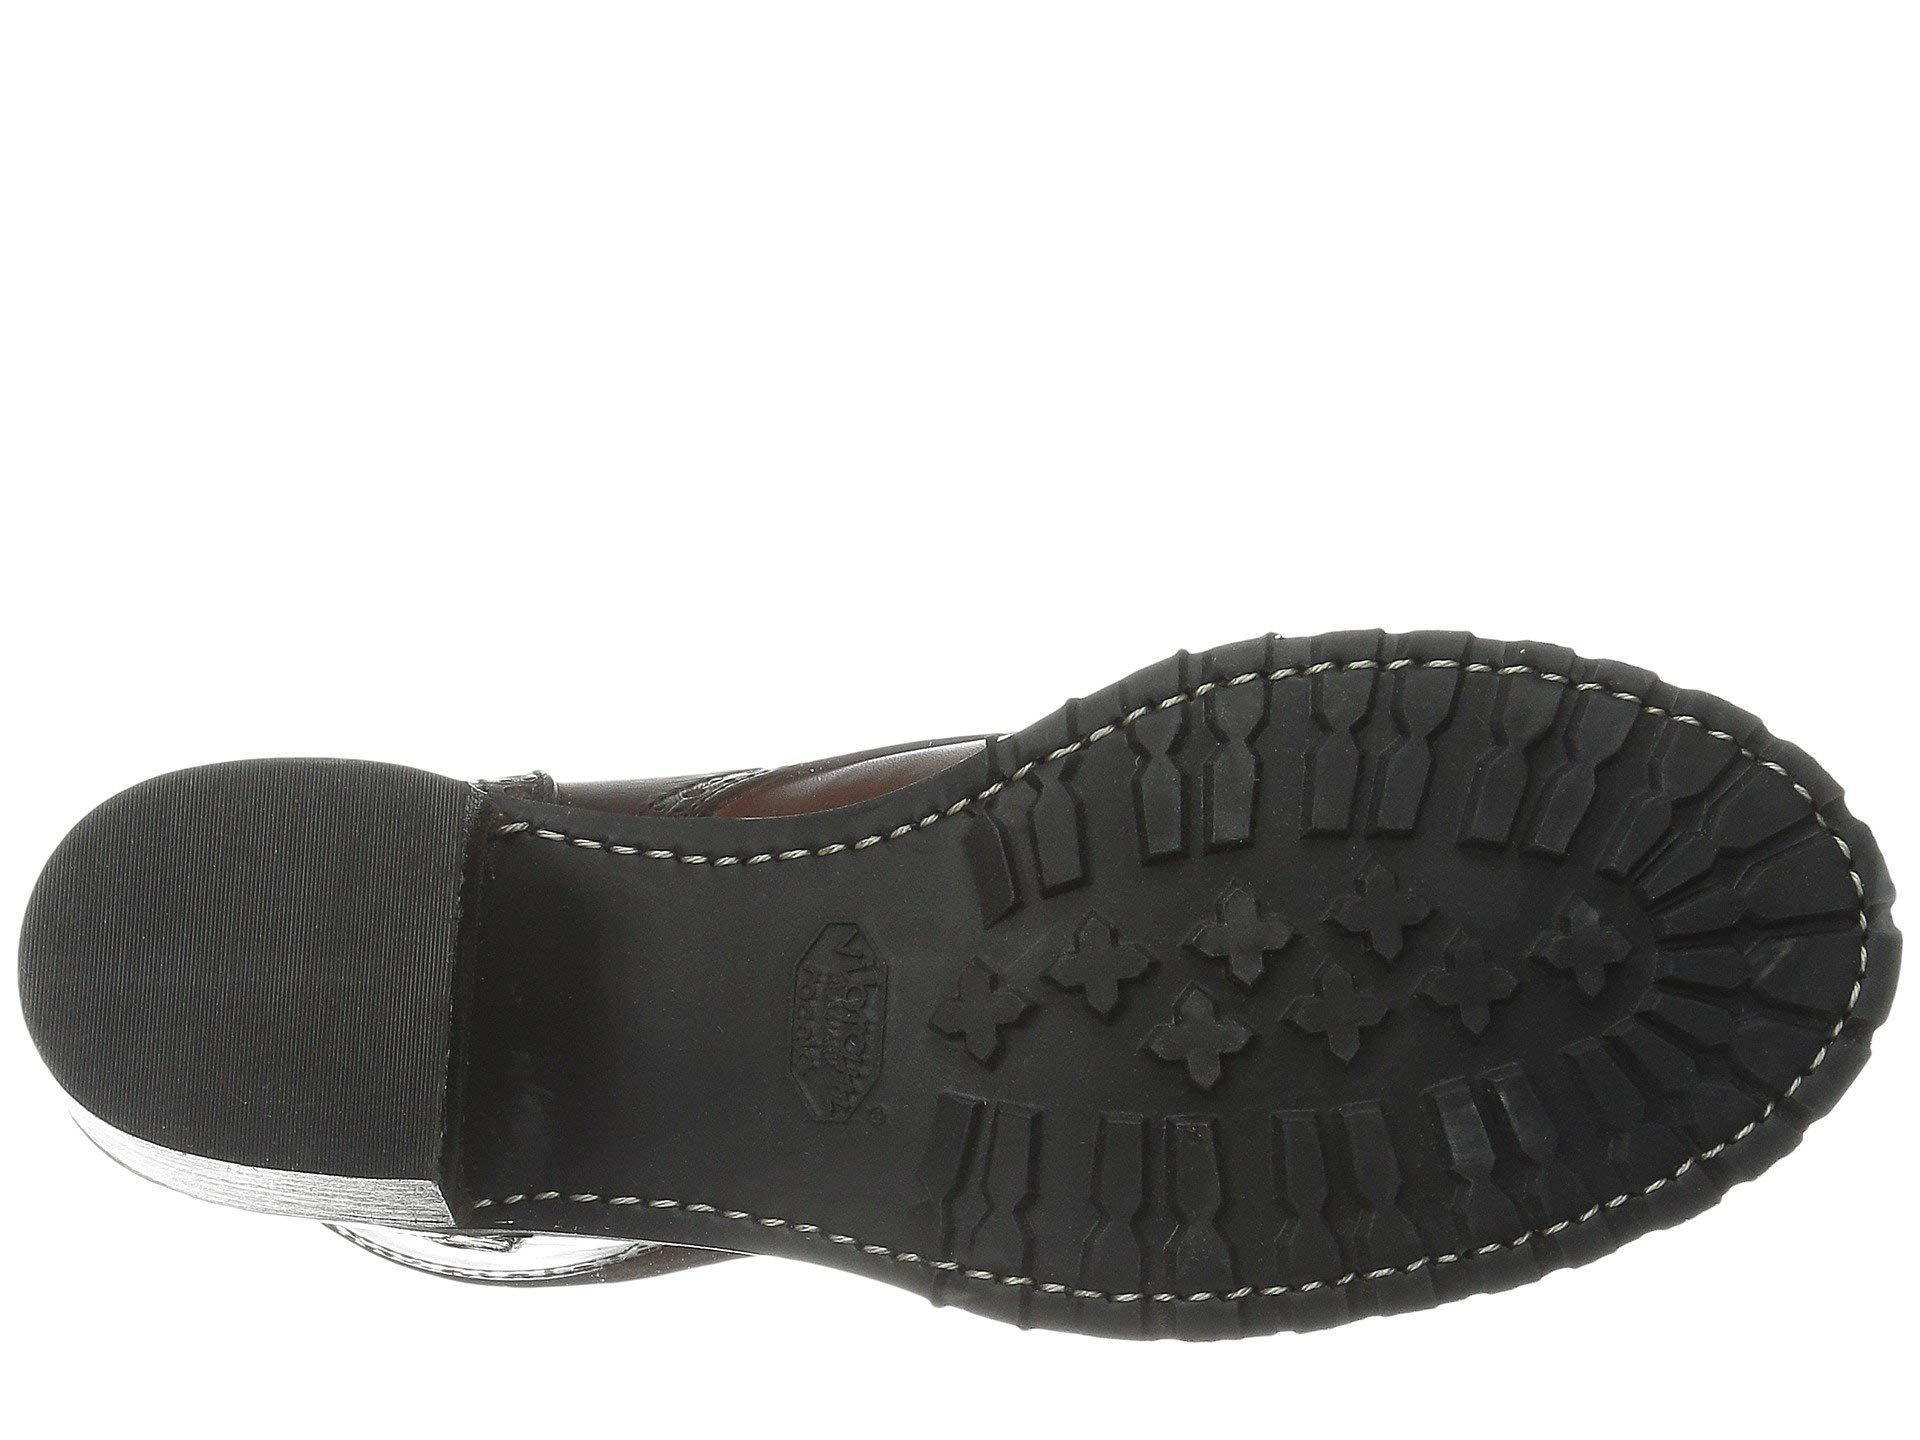bowtie: (1105, 672, 1559, 1134)
star: (1105, 672, 1559, 1134)
